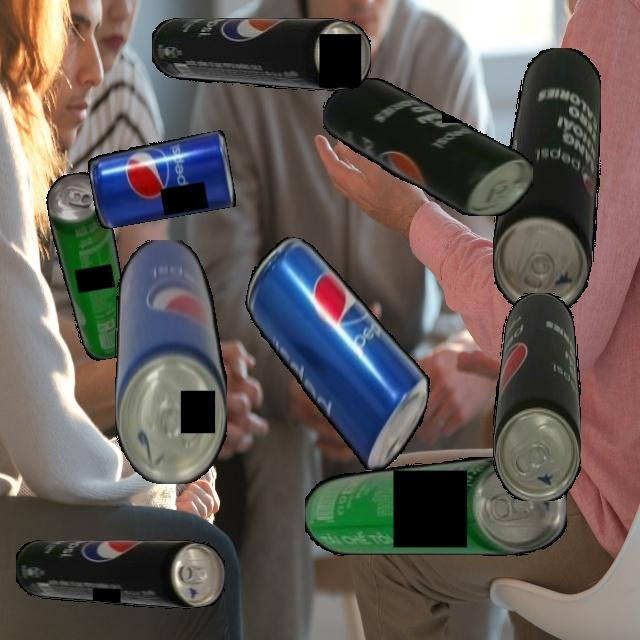debris: (221, 232, 451, 477), (323, 77, 533, 216), (492, 47, 601, 311), (114, 239, 227, 484), (304, 457, 567, 556), (492, 292, 581, 501), (43, 169, 135, 364), (151, 18, 371, 91), (86, 130, 237, 230), (15, 540, 225, 609)
